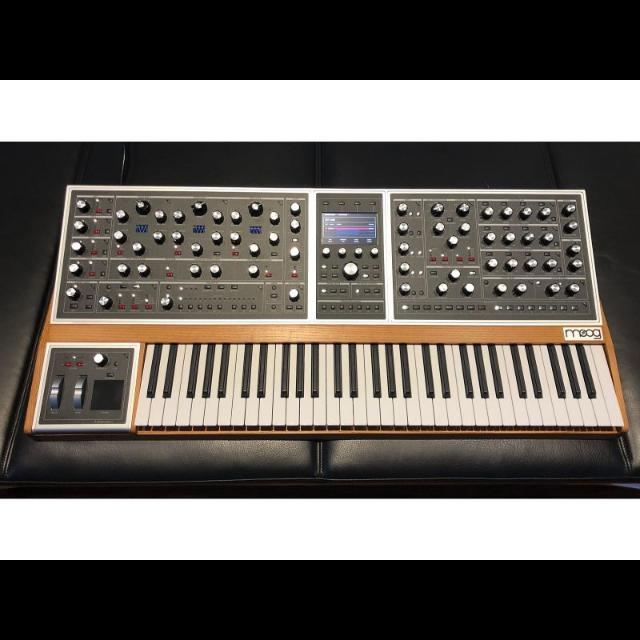Electronic-Keyboard: (24, 174, 628, 443)
